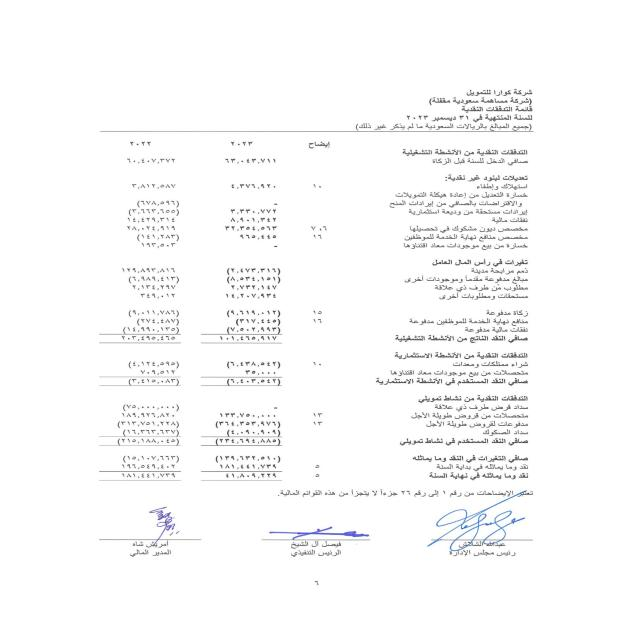financial_sheets: (458, 107, 546, 113)
table: (61, 136, 334, 490)
